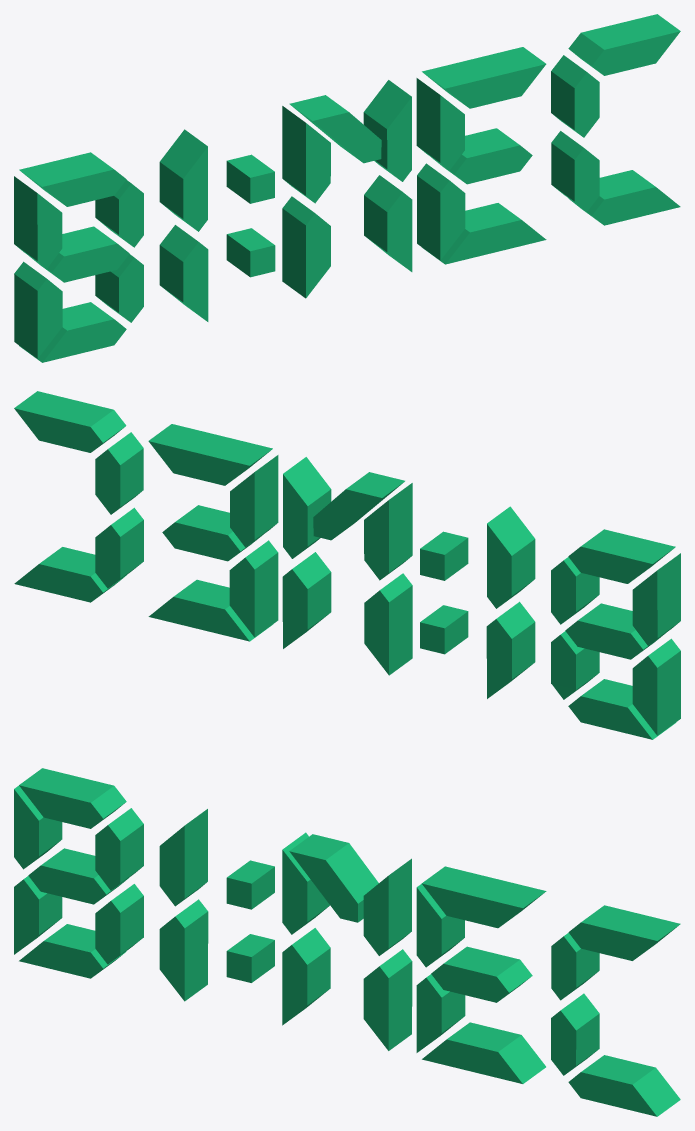
File: binec-time2.gltf
3 renders of one model, top to bottom at view 1: azimuth 30°, elevation 25°; view 2: azimuth 150°, elevation 25°; view 3: azimuth 330°, elevation 25°, orthographic.
Parts seen in each view (by area): view 1: Curve; view 2: Curve; view 3: Curve.
Boxes of the visible parts, bbox=[...] form: Curve: bbox=[14, 14, 680, 362]; Curve: bbox=[14, 391, 680, 739]; Curve: bbox=[14, 768, 680, 1116].
Size of the model in its own units: 3.75 by 0.9808 by 0.238.
